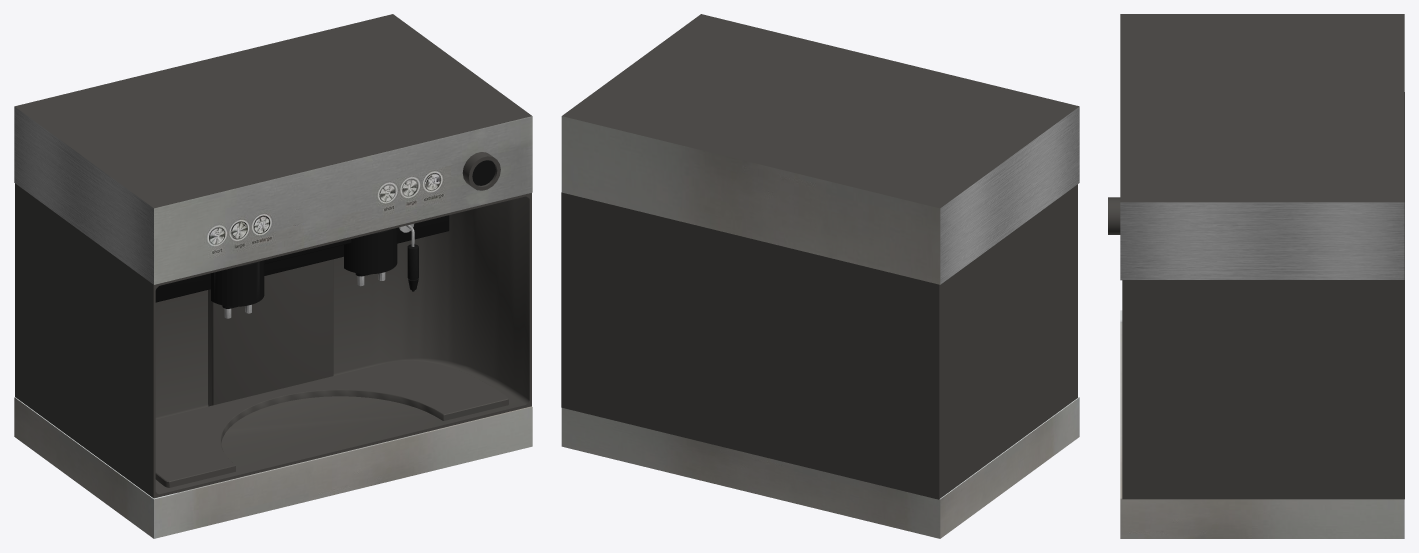
The model's file is Coffee machine.fbx.
3 renders of one model, left to right at view 1: azimuth 30°, elevation 25°; view 2: azimuth 150°, elevation 25°; view 3: azimuth 270°, elevation 25°, orthographic.
Parts seen in each view (by area): view 1: coffee machine; view 2: coffee machine; view 3: coffee machine.
Boxes of the visible parts, left/top/right/bottom form: coffee machine: left=14, top=14, right=532, bottom=538; coffee machine: left=561, top=14, right=1079, bottom=538; coffee machine: left=1108, top=14, right=1404, bottom=538.
Bounding box in the file's own units: 71.74 × 59.79 × 47.78.
Materials: 1 (1 with a texture image).
